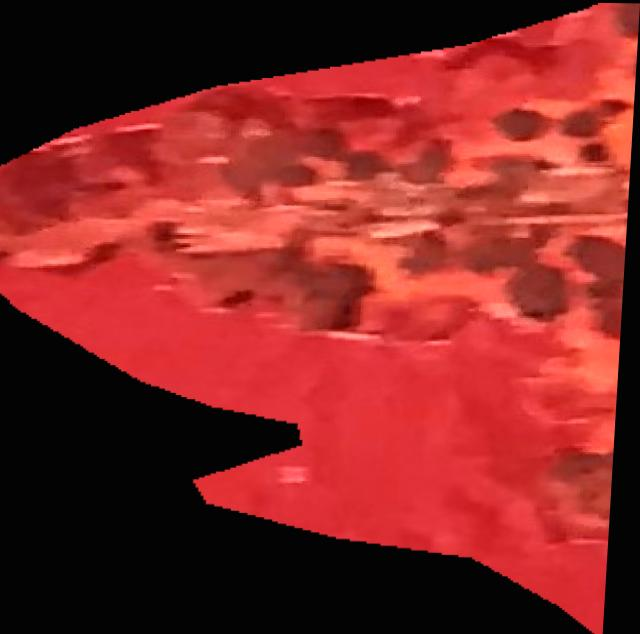Pitting Corrosion: (0, 1, 640, 634)
